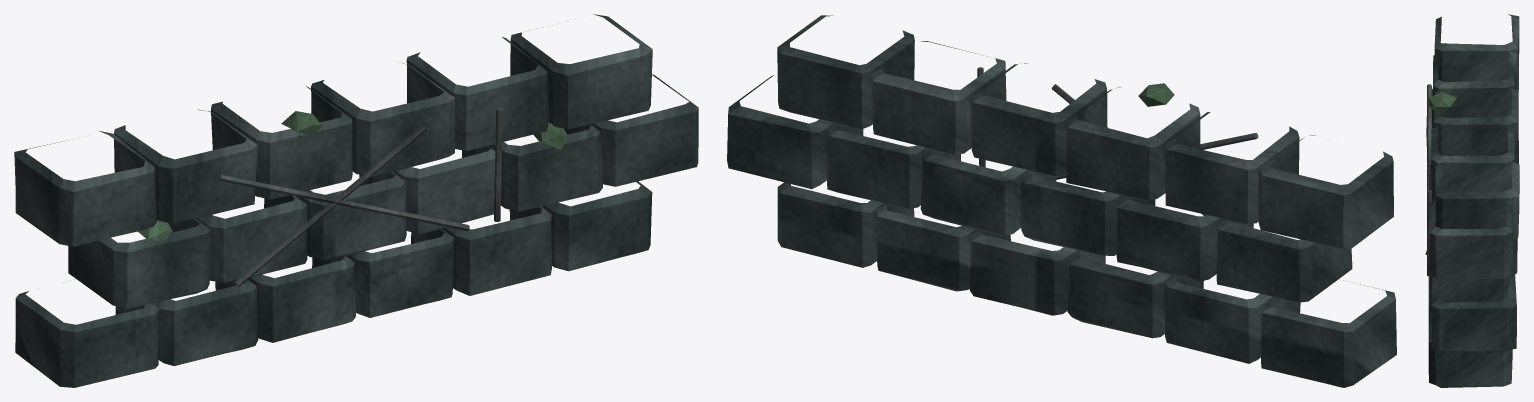
The model's file is 0341_wall_section_16.glb.
The picture shows the model from 3 angles, left to right: view 1: azimuth 30°, elevation 25°; view 2: azimuth 150°, elevation 25°; view 3: azimuth 270°, elevation 25°; orthographic projection. The views are drawn at different scales.
Parts seen in each view (by area): view 1: stone_dark, iron, moss; view 2: stone_dark, iron, moss; view 3: stone_dark, iron, moss.
Boxes of the visible parts, x1,y1,x2,y2 form: stone_dark: (14,14,698,387); iron: (218,108,502,286); moss: (138,111,567,240); stone_dark: (727,15,1396,387); iron: (977,67,1258,216); moss: (1138,83,1174,106); stone_dark: (1426,14,1519,387); iron: (1427,84,1431,276); moss: (1425,92,1456,255).
Bounding box in the file's own units: 3.6 × 1.17 × 0.6.
3 materials, 3 textured.
